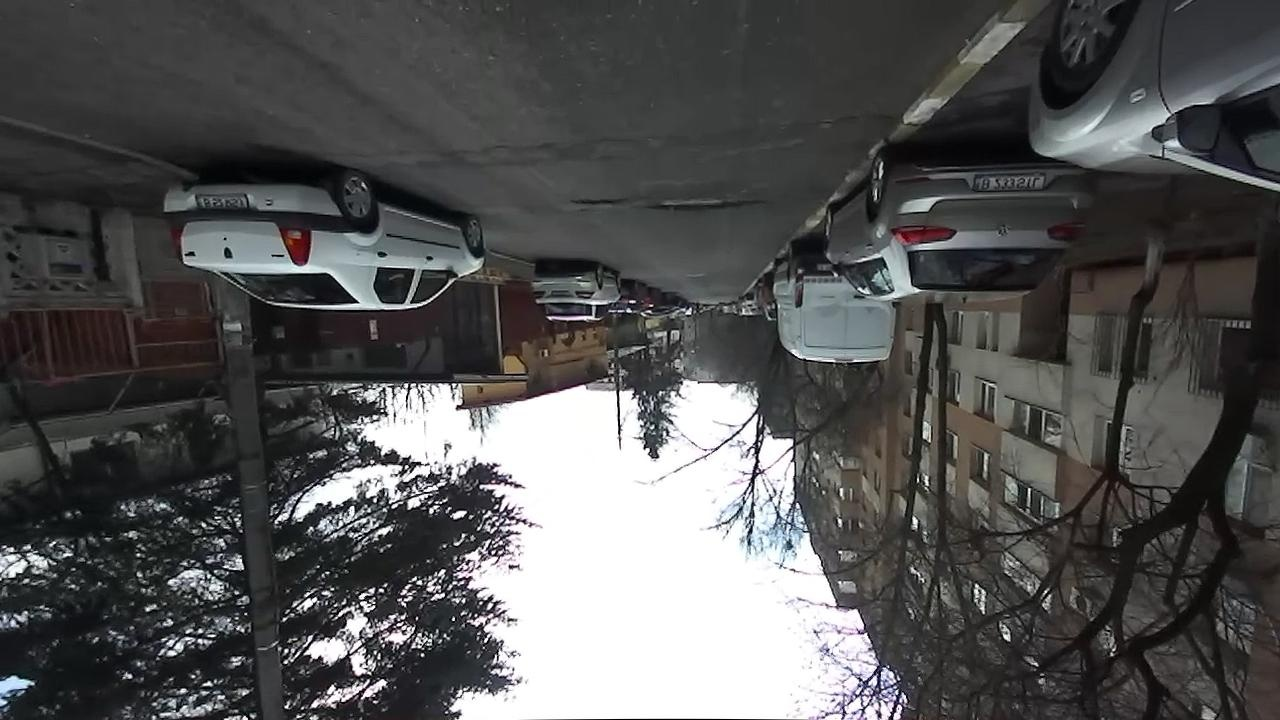pothole: (643, 194, 768, 214), (567, 194, 630, 207)
